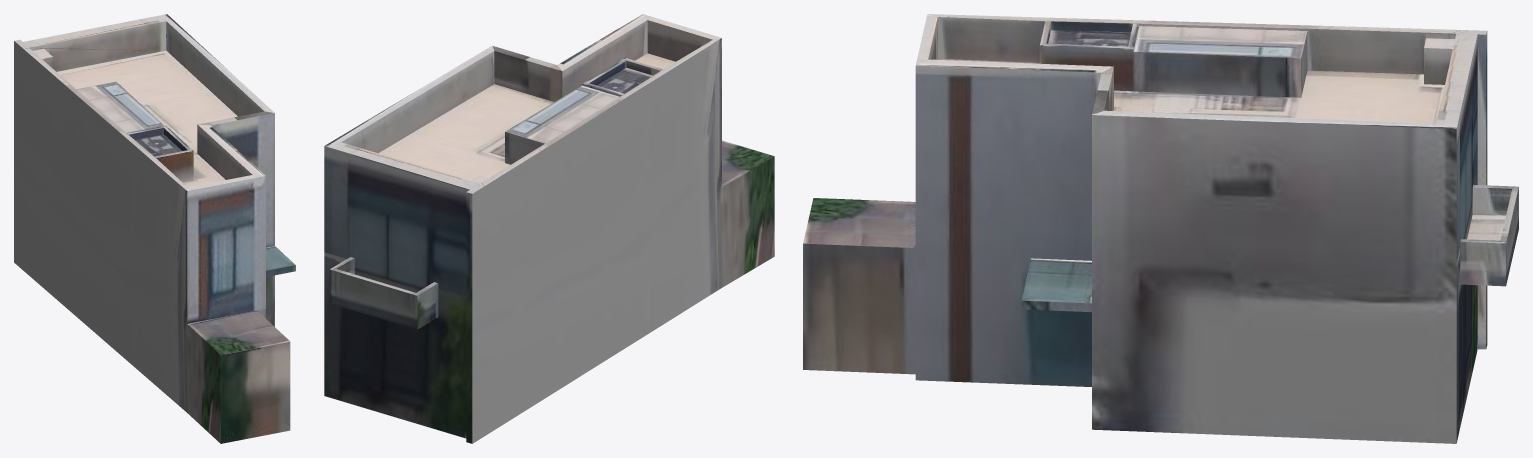
3 renders of one model, left to right at view 1: azimuth 30°, elevation 25°; view 2: azimuth 150°, elevation 25°; view 3: azimuth 270°, elevation 25°, orthographic. The views are drawn at different scales.
Visible parts, largest first — view 1: B283834038301062A0; view 2: B283834038301062A0; view 3: B283834038301062A0.
Boxes of the visible parts, box(x1,y1,x2,y2) form: B283834038301062A0: box(14, 14, 295, 443); B283834038301062A0: box(324, 14, 774, 443); B283834038301062A0: box(803, 14, 1518, 443).
Size of the model in its own units: 7.61 by 9.33 by 19.22.
Materials: 1 (1 with a texture image).
